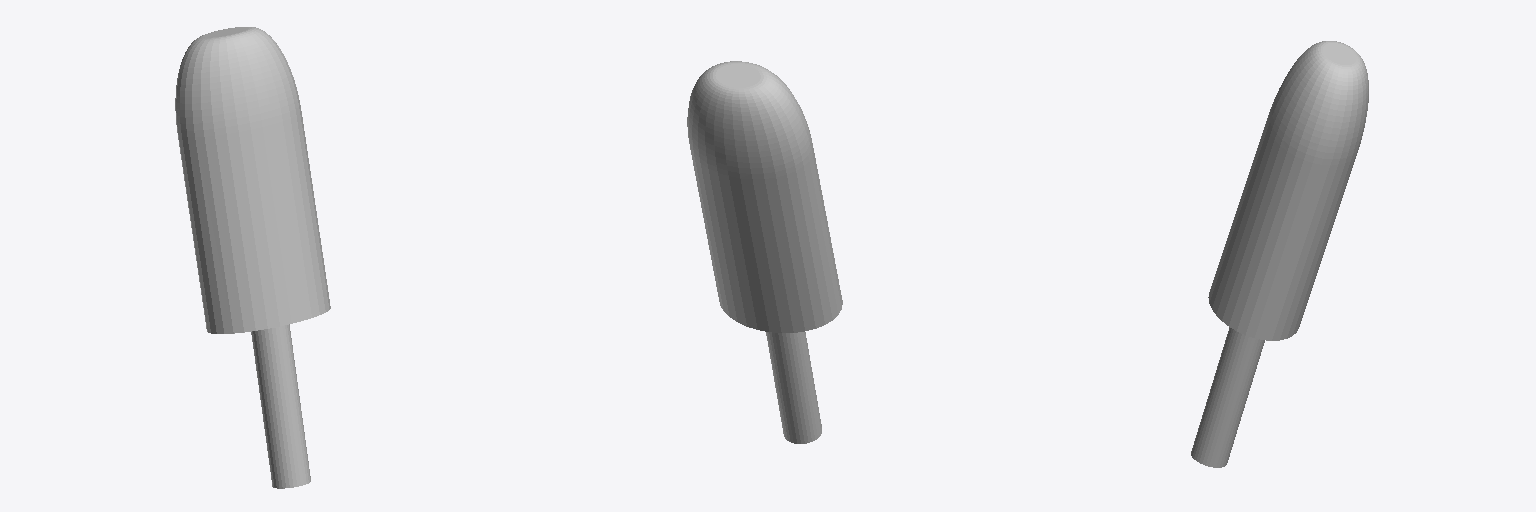
File: brazo_sup_der.obj
3 renders of one model, left to right at view 1: azimuth 30°, elevation 25°; view 2: azimuth 150°, elevation 25°; view 3: azimuth 270°, elevation 25°, orthographic.
Parts seen in each view (by area): view 1: Cilindro.008_Cilindro.017; view 2: Cilindro.008_Cilindro.017; view 3: Cilindro.008_Cilindro.017.
Boxes of the visible parts, box(x1,y1,x2,y2) form: Cilindro.008_Cilindro.017: box(175, 27, 330, 488); Cilindro.008_Cilindro.017: box(687, 61, 842, 443); Cilindro.008_Cilindro.017: box(1191, 41, 1368, 467).
Bounding box in the file's own units: 0.0771 × 0.2642 × 0.1033.